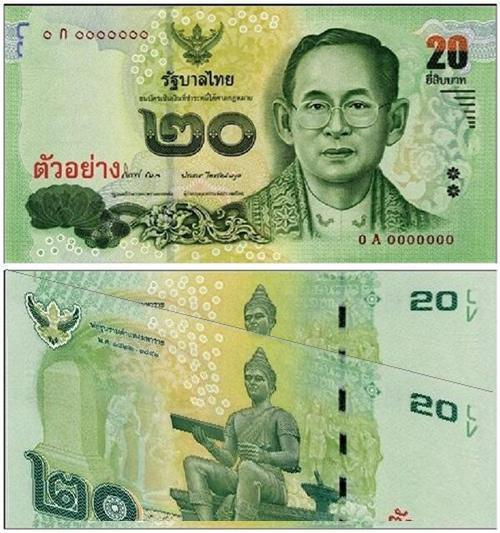20BahtTai: (6, 270, 493, 522)
